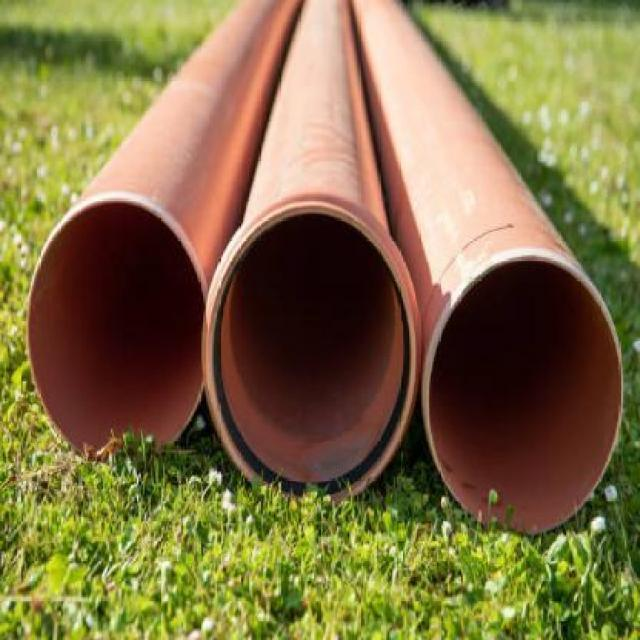pipe: (206, 205, 420, 504), (423, 255, 623, 531), (28, 199, 208, 460)
